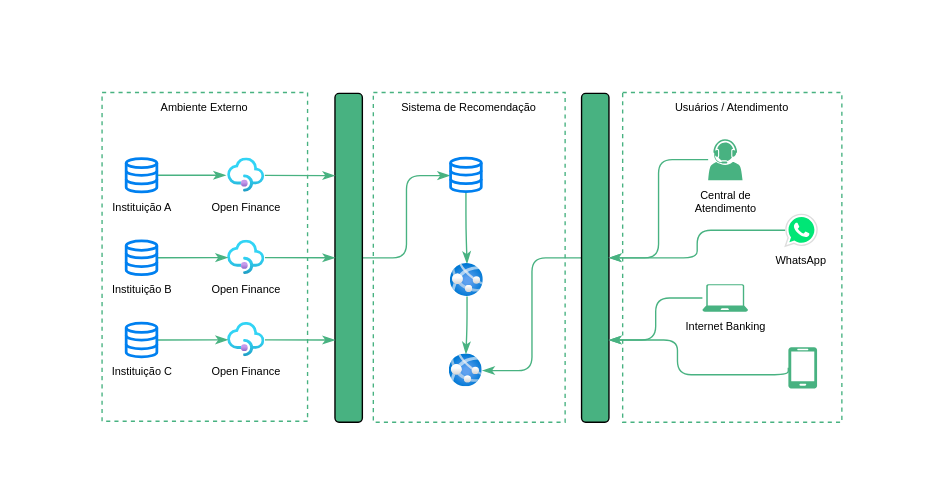
The diagram is 937 pixels wide and 485 high, and some of its shapes have lost their labels. Here are the shapes that lost their labels. From the top down, the box of each, then its label:
(449, 156, 482, 192): Quantum Finance Open Finance
(334, 92, 362, 422): Integrador APIs
(580, 92, 609, 422): Backend For Frontend API (BFF)
(450, 263, 483, 296): Modelo KNN
(449, 353, 482, 386): Filtro Colaborativo
(788, 347, 816, 388): Mobile APP
